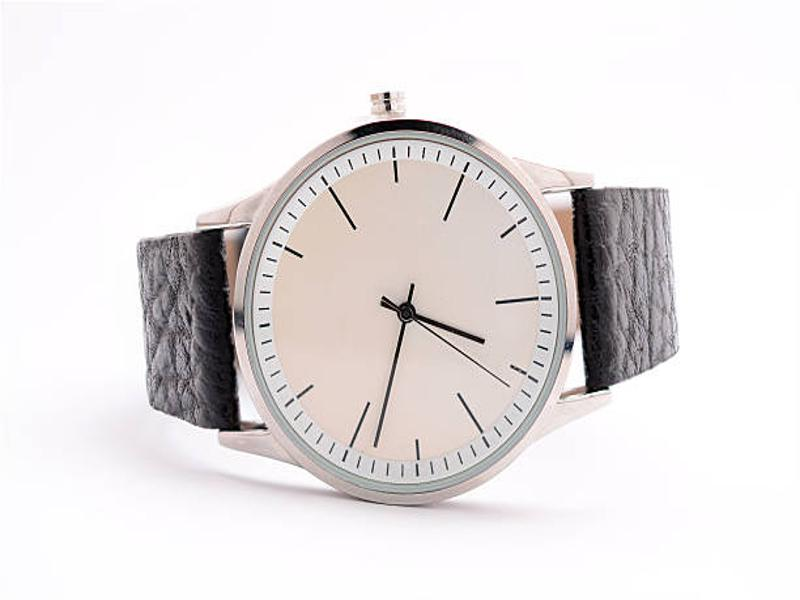watch: (129, 89, 684, 506)
